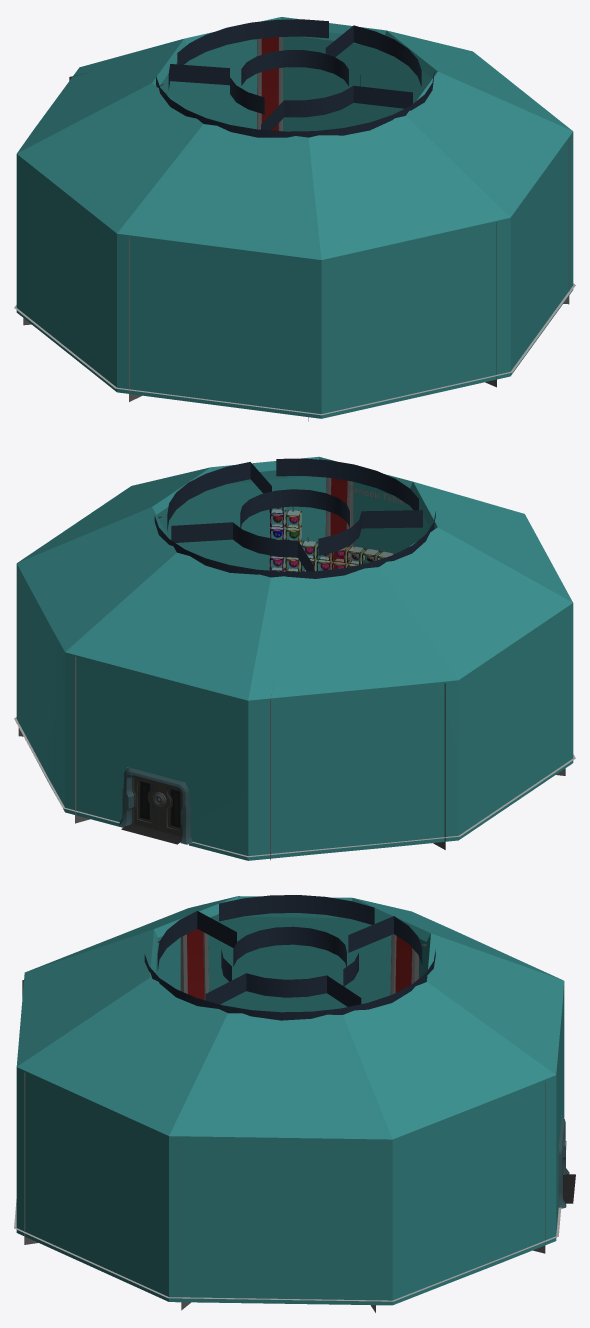
File: Lab.gltf
3 views of the same model, one above another, from view 1: azimuth 30°, elevation 25°; view 2: azimuth 150°, elevation 25°; view 3: azimuth 270°, elevation 25° (orthographic). The views are drawn at different scales.
Parts seen in each view (by area): view 1: Lab; view 2: Lab, Box; view 3: Lab.
Part boxes in pixels (x1,y1,x2,y2): Lab: [14, 17, 575, 421]; Lab: [14, 456, 575, 860]; Box: [269, 507, 394, 571]; Lab: [14, 895, 575, 1312].
Size of the model in its own units: 38.67 by 19.07 by 39.3.
27 materials, 19 textured.
